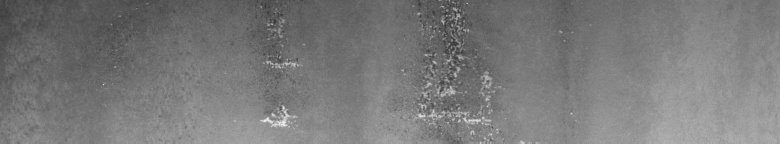hc: (401, 4, 572, 136)
